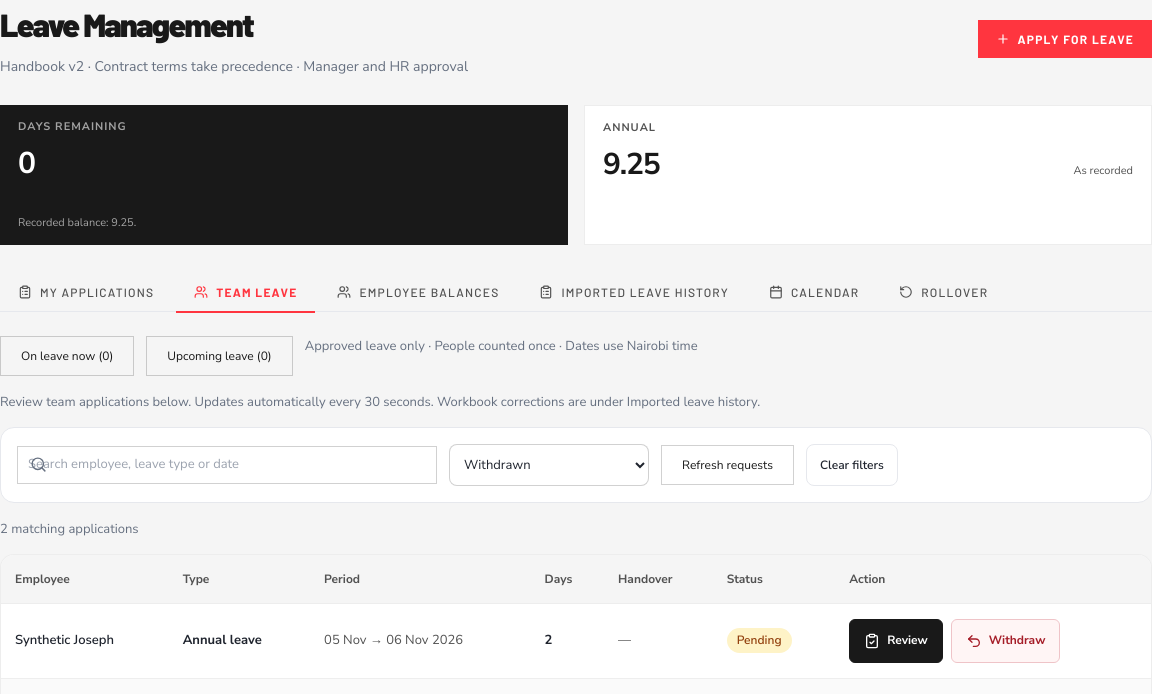
Scenario: HR starts in the pending application queue including pending imported entries
Expected: the row that starts with "Synthetic Joseph" is shown, [1,603,1151,678]
Expected: the text "Withdrawn employee" is not shown
Select "Withdrawn" in the dropdown named "Team leave status" at (549, 465), box [449,444,649,486]
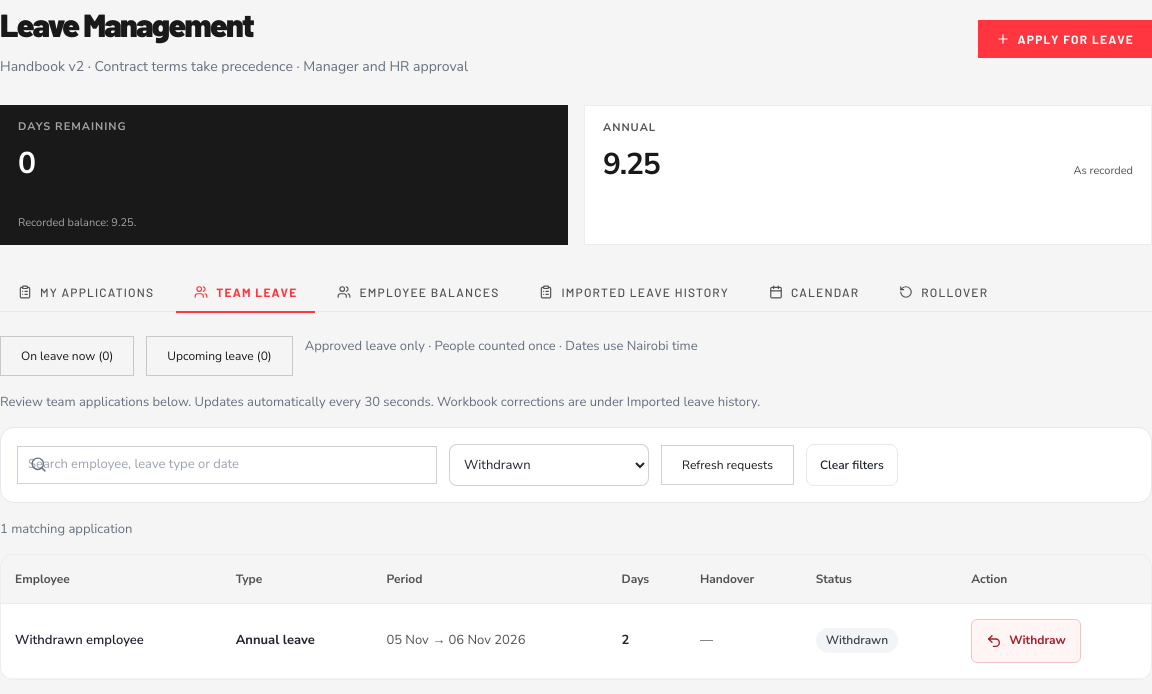
Result: the text "Withdrawn employee" is shown at [1,603,222,678]
Result: the text "Synthetic Joseph" is gone
